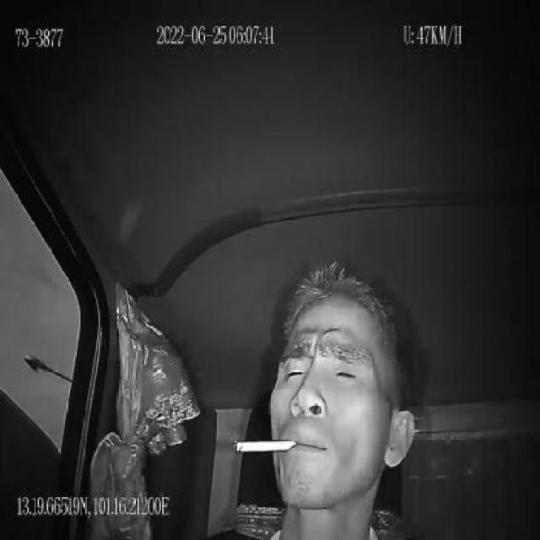smoking: (232, 433, 299, 457)
